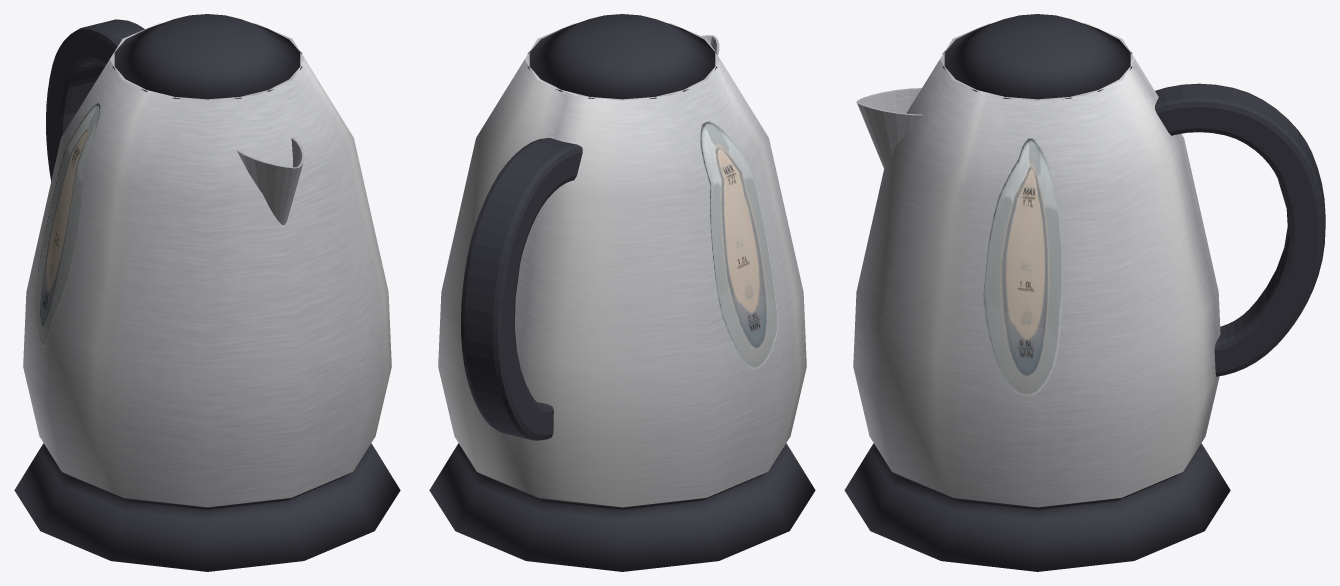
Rendered from 5AAD1093-76EC-4B38-B3D6-69EBE6B82AA7.dae.
3 renders of one model, left to right at view 1: azimuth 30°, elevation 25°; view 2: azimuth 150°, elevation 25°; view 3: azimuth 270°, elevation 25°, orthographic.
Parts seen in each view (by area): view 1: Pot_2; view 2: Pot_2; view 3: Pot_2.
Boxes of the visible parts, x1=… form: Pot_2: x1=14, y1=14, x2=400, y2=571; Pot_2: x1=429, y1=14, x2=815, y2=571; Pot_2: x1=844, y1=14, x2=1325, y2=571.
Bounding box in the file's own units: 0.1677 × 0.2089 × 0.2219.
Materials: 4 (4 with a texture image).
